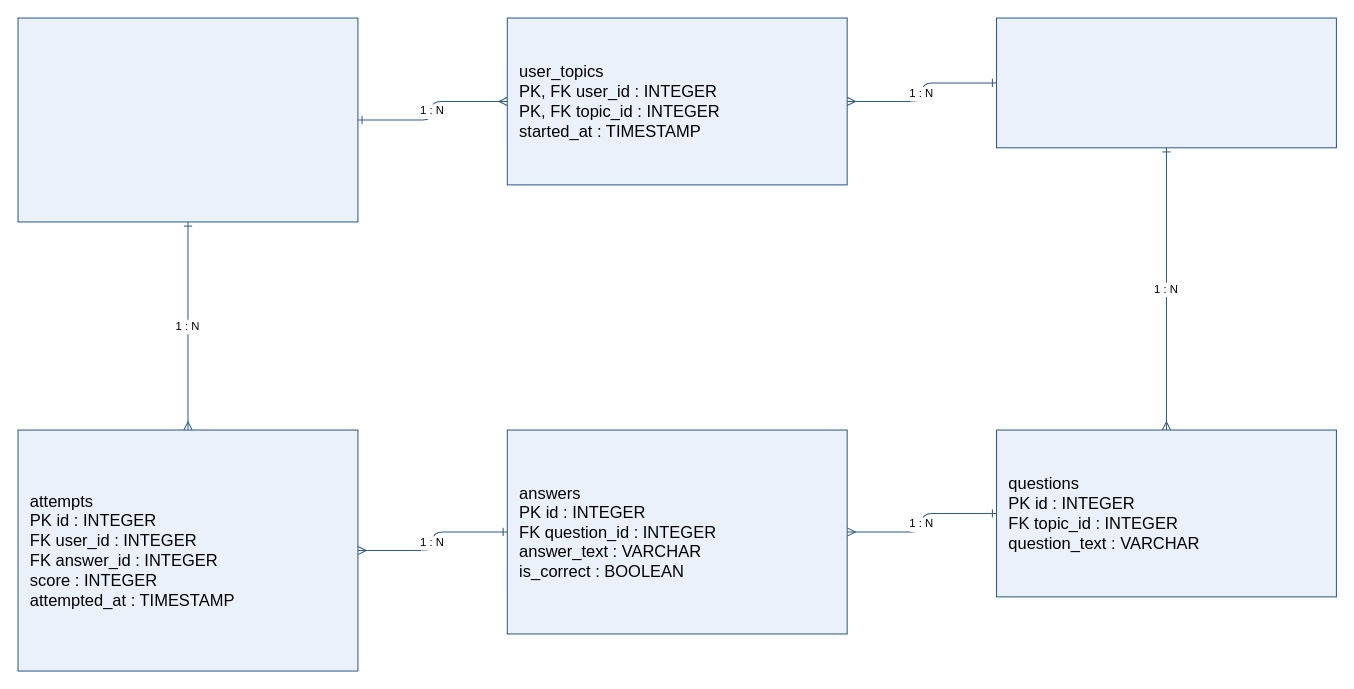
Some shapes in this 1354 by 689 pixel diagram are drawn without their labels. Here are the shapes that lost their labels. From the top down, the centre of each, then its label:
At pixel 1165 82: "topics PK id : INTEGER title : VARCHAR UNIQUE".
At pixel 187 119: "users PK id : INTEGER name : VARCHAR email : VARCHAR UNIQUE role : VARCHAR".
